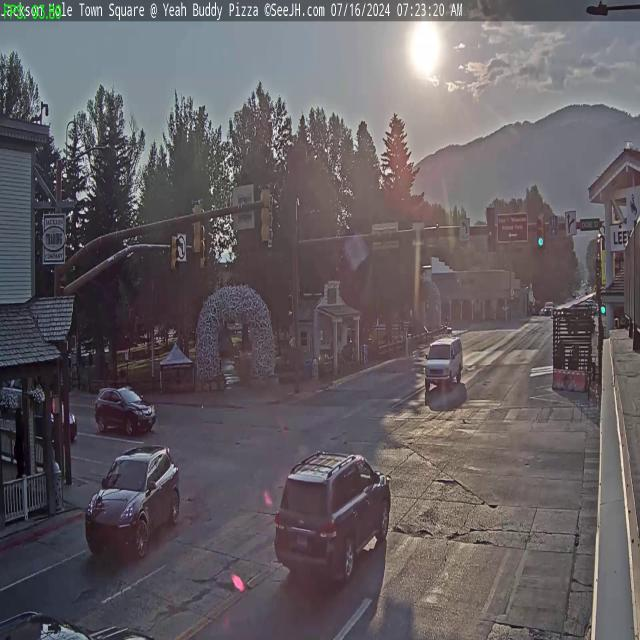suv: (272, 444, 394, 592), (83, 440, 182, 561), (93, 384, 156, 437)
traffic light: (190, 198, 203, 255), (261, 184, 273, 245), (487, 207, 497, 252), (170, 235, 180, 272), (536, 214, 546, 248)
van: (424, 336, 465, 394)
